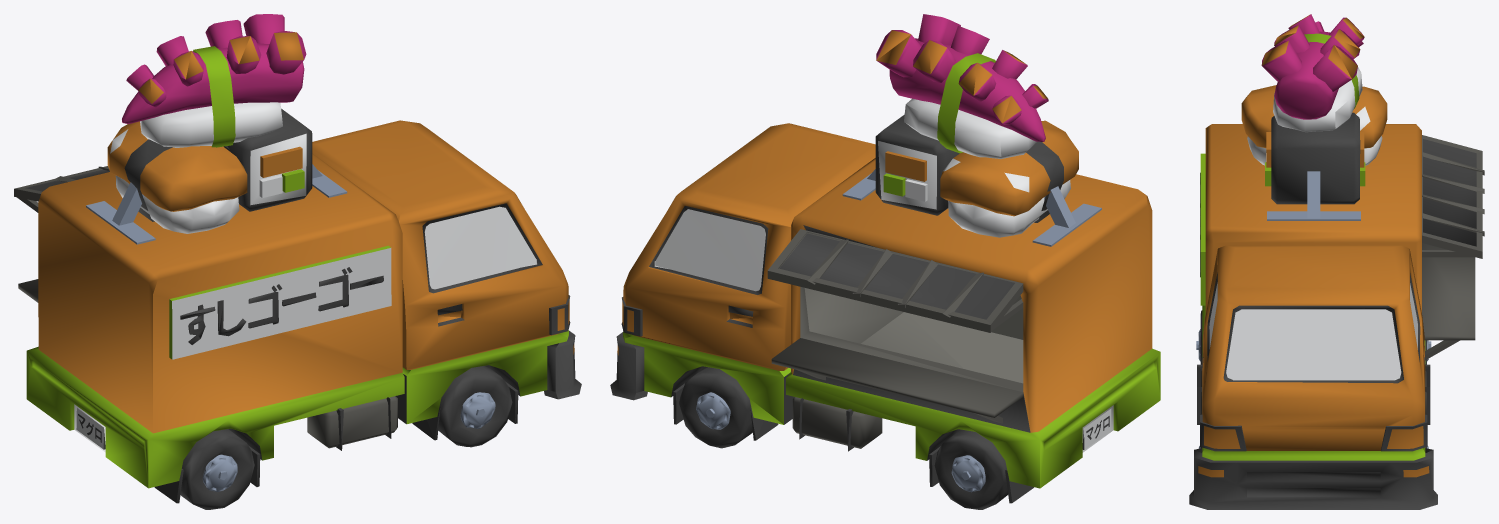
Rendered from sushi-truck.glb.
3 renders of one model, left to right at view 1: azimuth 30°, elevation 25°; view 2: azimuth 150°, elevation 25°; view 3: azimuth 270°, elevation 25°, orthographic. The views are drawn at different scales.
Visible parts, largest first — view 1: sushi-truck; view 2: sushi-truck; view 3: sushi-truck.
Boxes of the visible parts, x1,y1,x2,y2 form: sushi-truck: (14, 14, 581, 509); sushi-truck: (610, 14, 1160, 509); sushi-truck: (1189, 14, 1484, 509).
Size of the model in its own units: 3.27 by 3 by 2.09.
